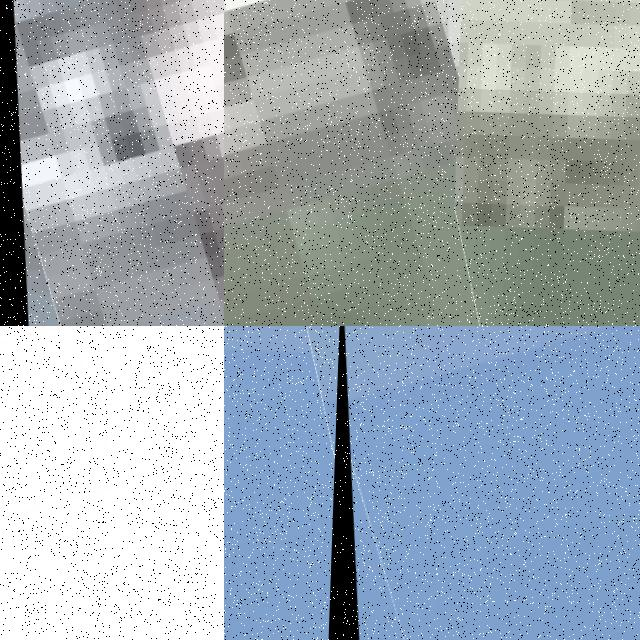drone: (319, 326, 640, 640), (224, 0, 469, 326), (0, 0, 224, 326), (0, 326, 224, 640)
